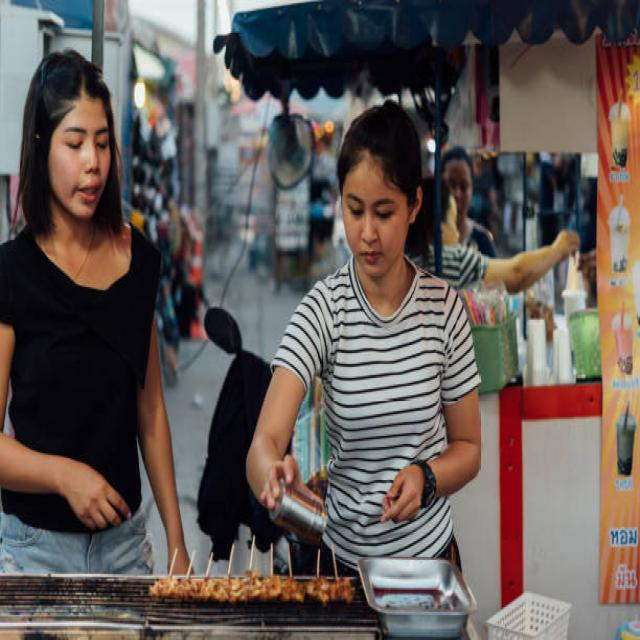Emperan: (0, 314, 499, 640)
